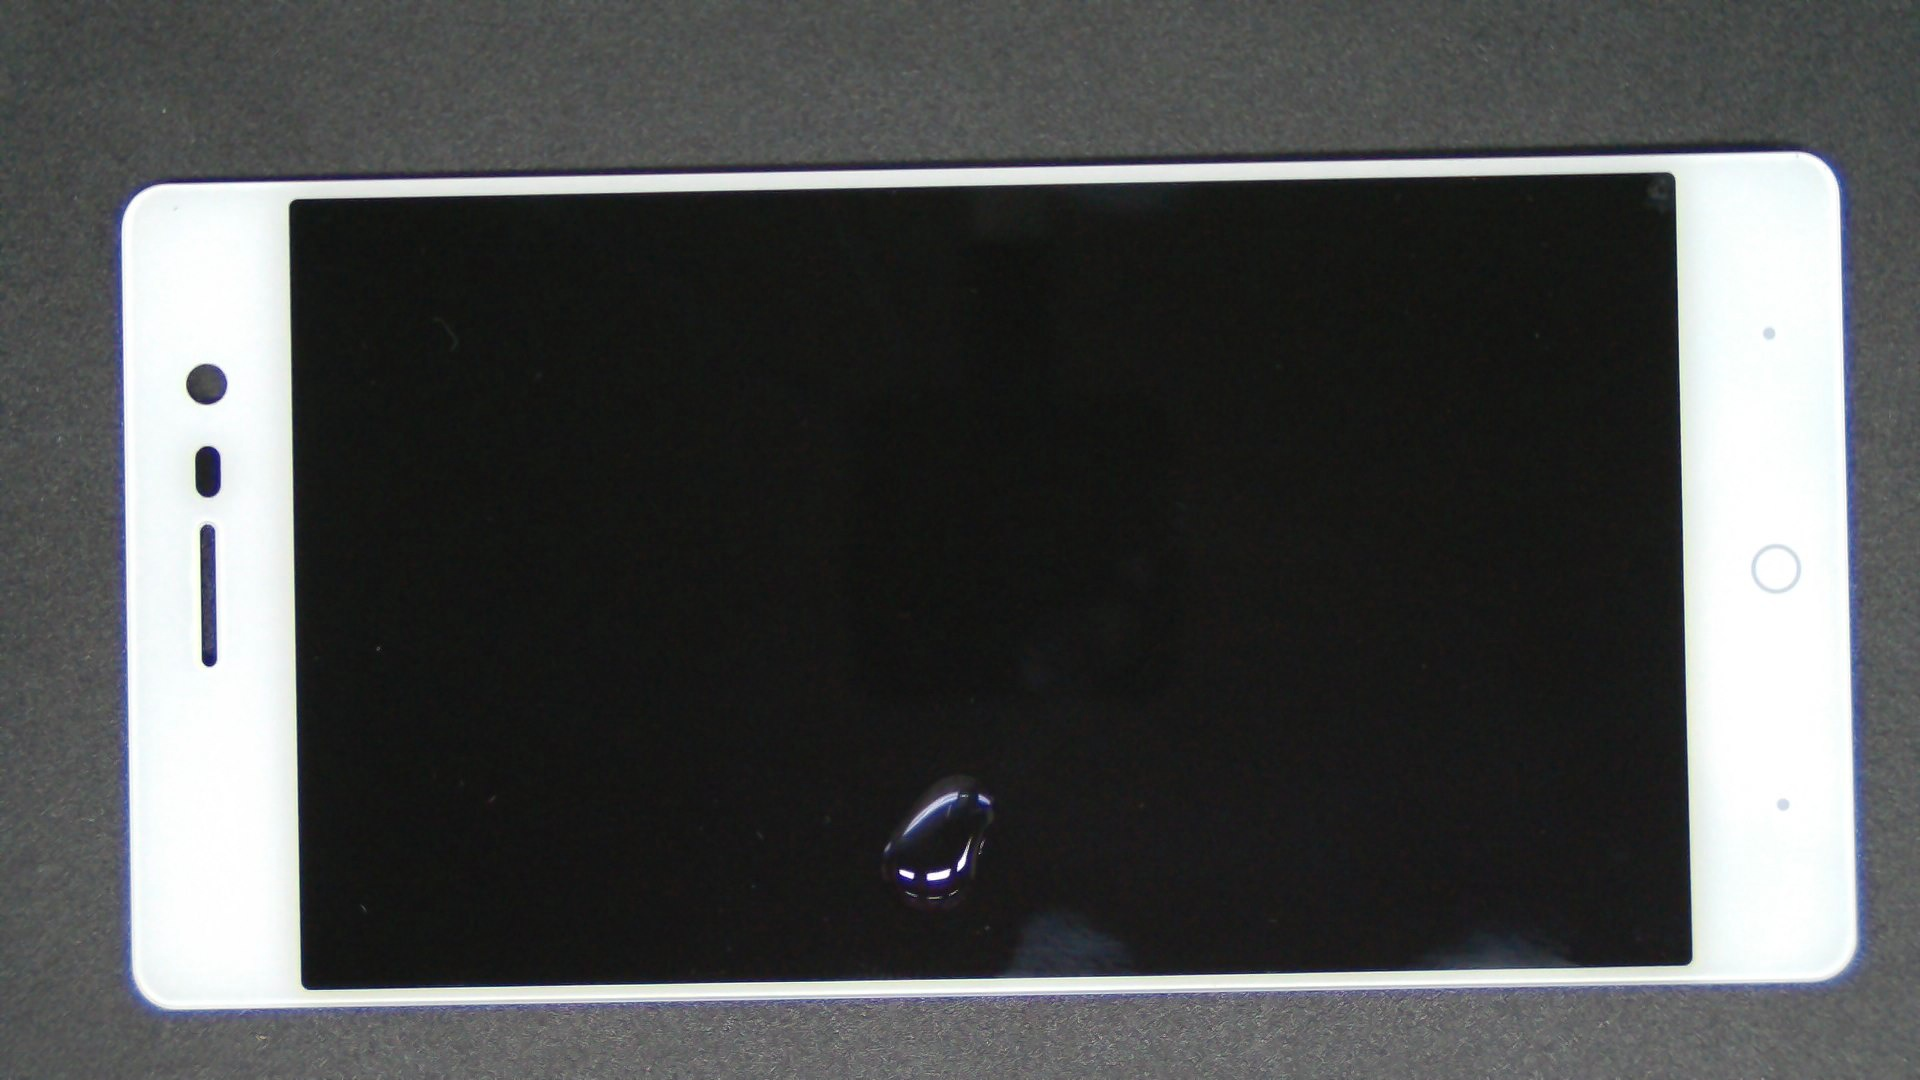oil: (480, 386, 1436, 1080)
